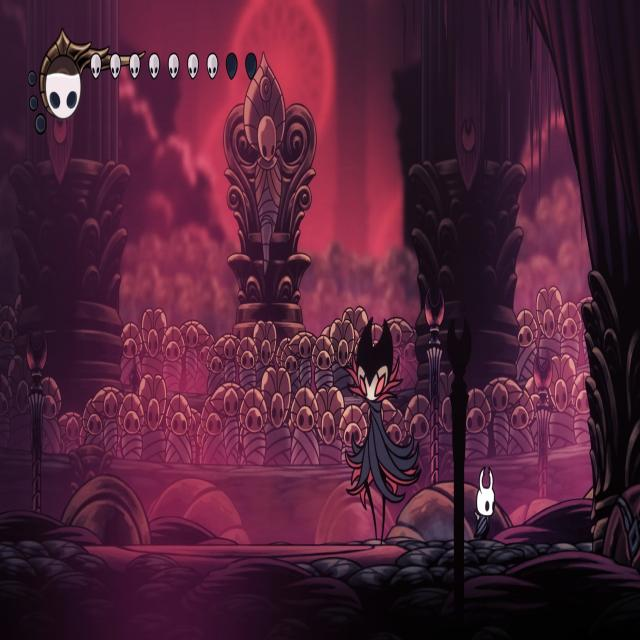Grimm: (348, 306, 428, 542)
Player: (474, 462, 498, 542)
